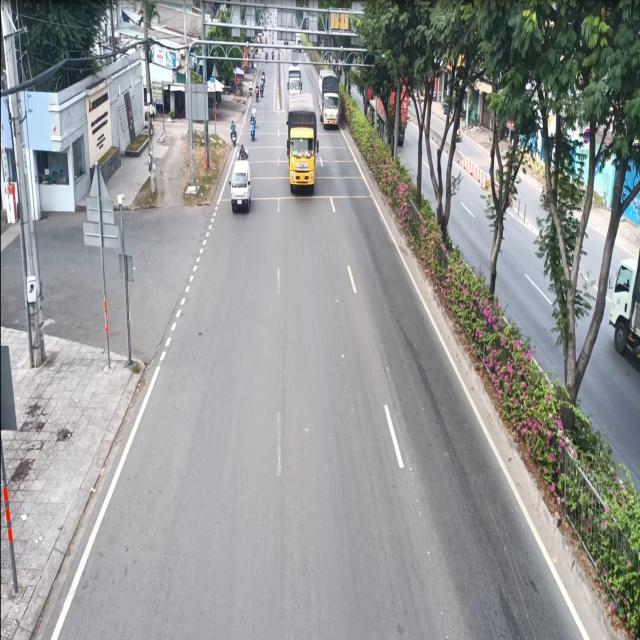car: (230, 156, 253, 222)
truck: (286, 93, 318, 193), (320, 68, 342, 129)
